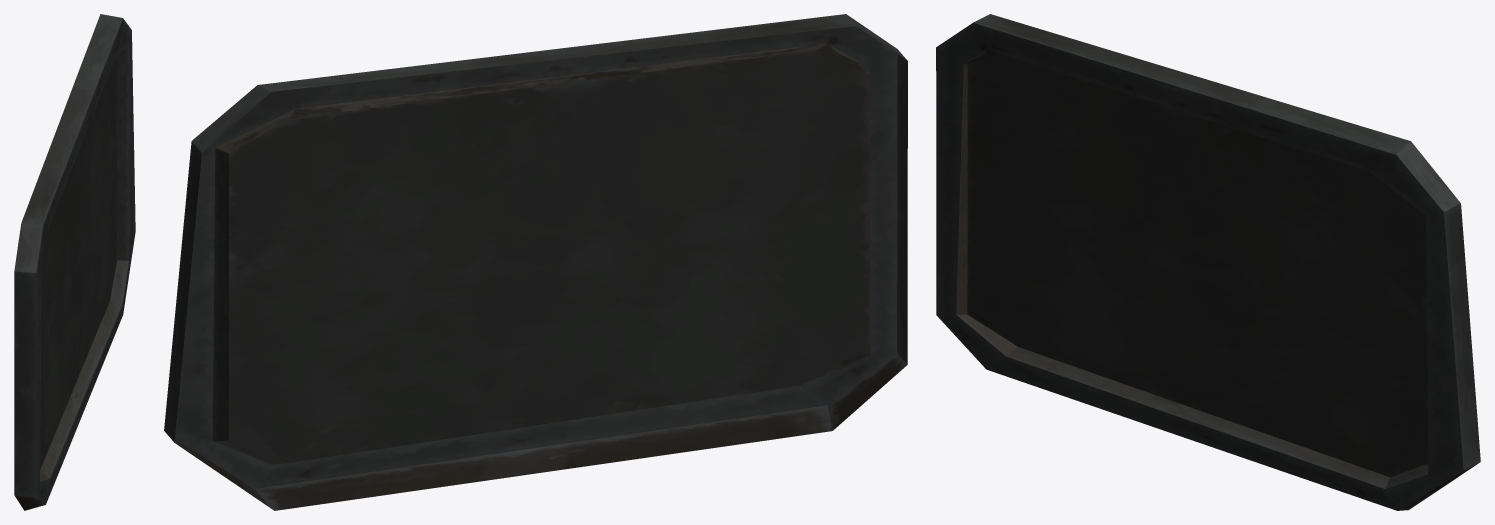
File: Body1.gltf
3 renders of one model, left to right at view 1: azimuth 30°, elevation 25°; view 2: azimuth 150°, elevation 25°; view 3: azimuth 270°, elevation 25°, orthographic. The views are drawn at different scales.
Visible parts, largest first — view 1: ModulV3; view 2: ModulV3; view 3: ModulV3.
Boxes of the visible parts, x1,y1,x2,y2 form: ModulV3: (14,14,135,510); ModulV3: (164,14,907,510); ModulV3: (936,14,1480,510).
Bounding box in the file's own units: 1.66 × 1.48 × 1.95.
1 material, 1 textured.
